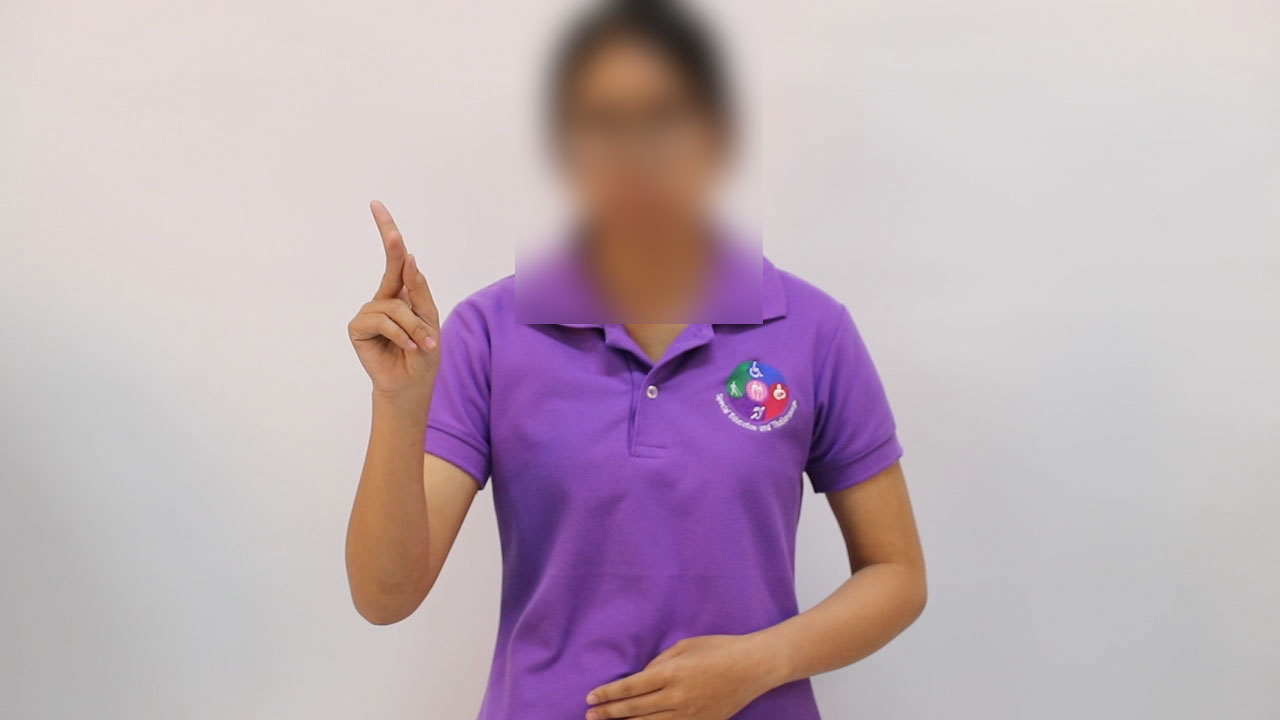ko: (331, 197, 460, 406)
